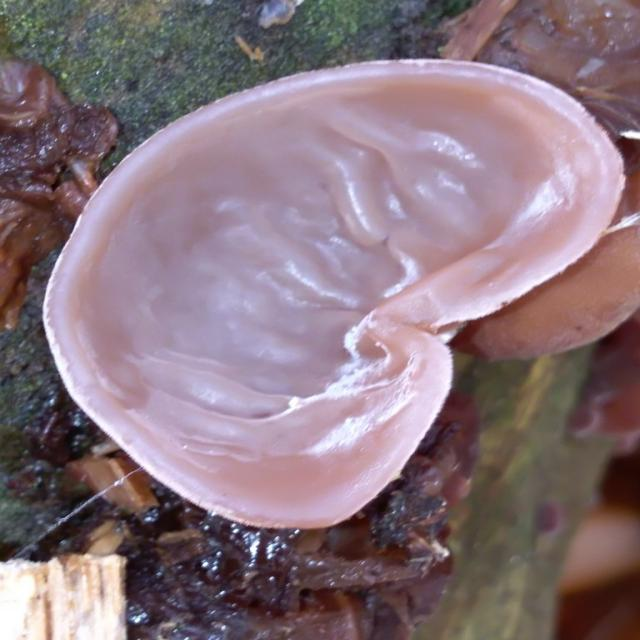Fase Muda: (28, 42, 634, 546)
